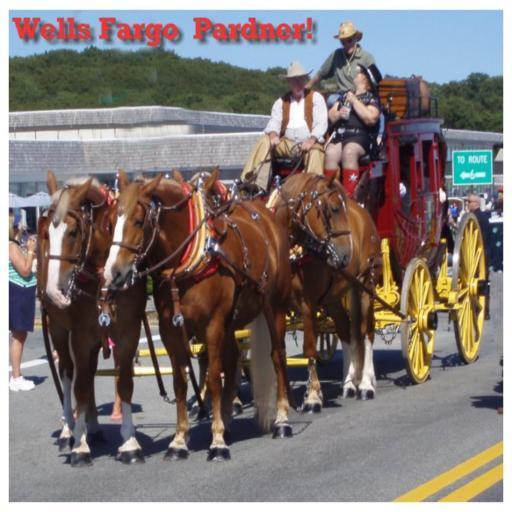horse: (100, 171, 294, 464), (36, 167, 151, 469), (265, 172, 382, 414)
